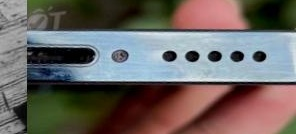scratch: (27, 0, 124, 130)
